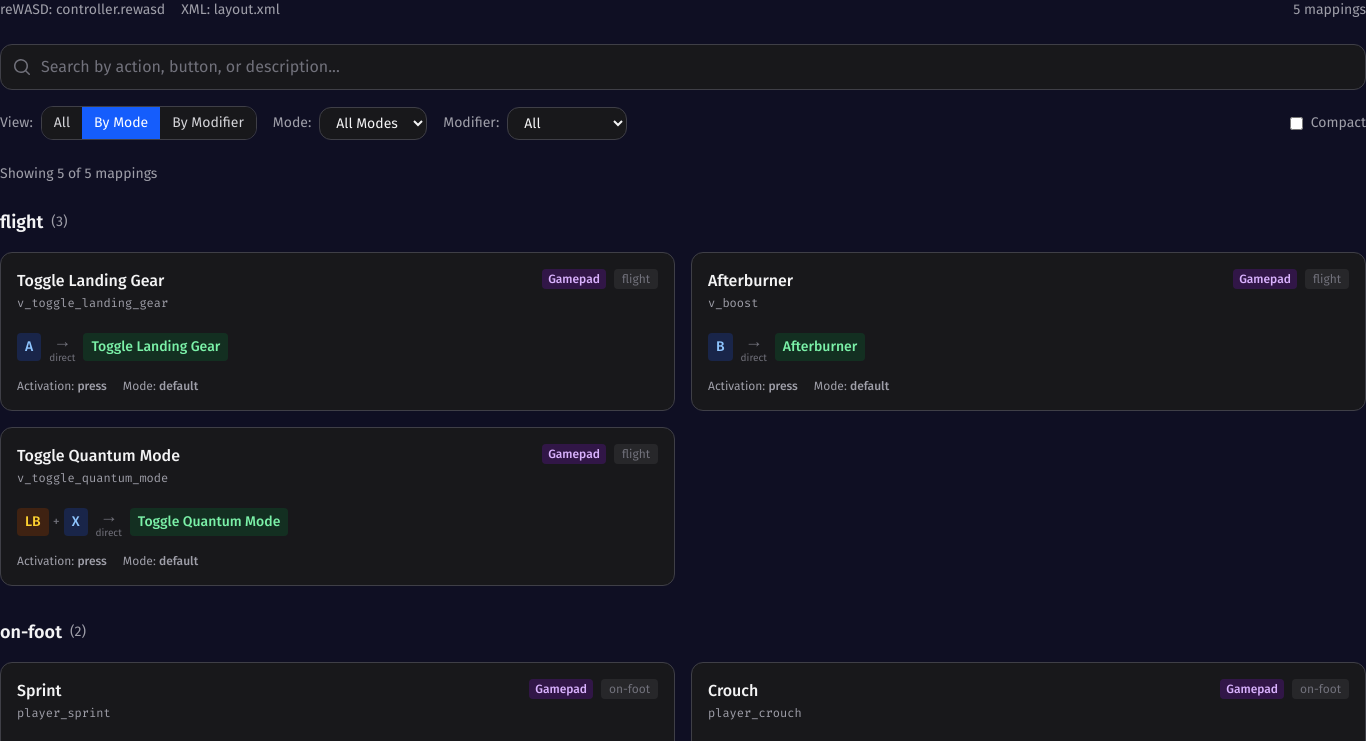
Test: MappingBrowser › view mode › switches to by-modifier view when clicked
Click the button "By Modifier" at [208, 123], box [160,107,256,139]
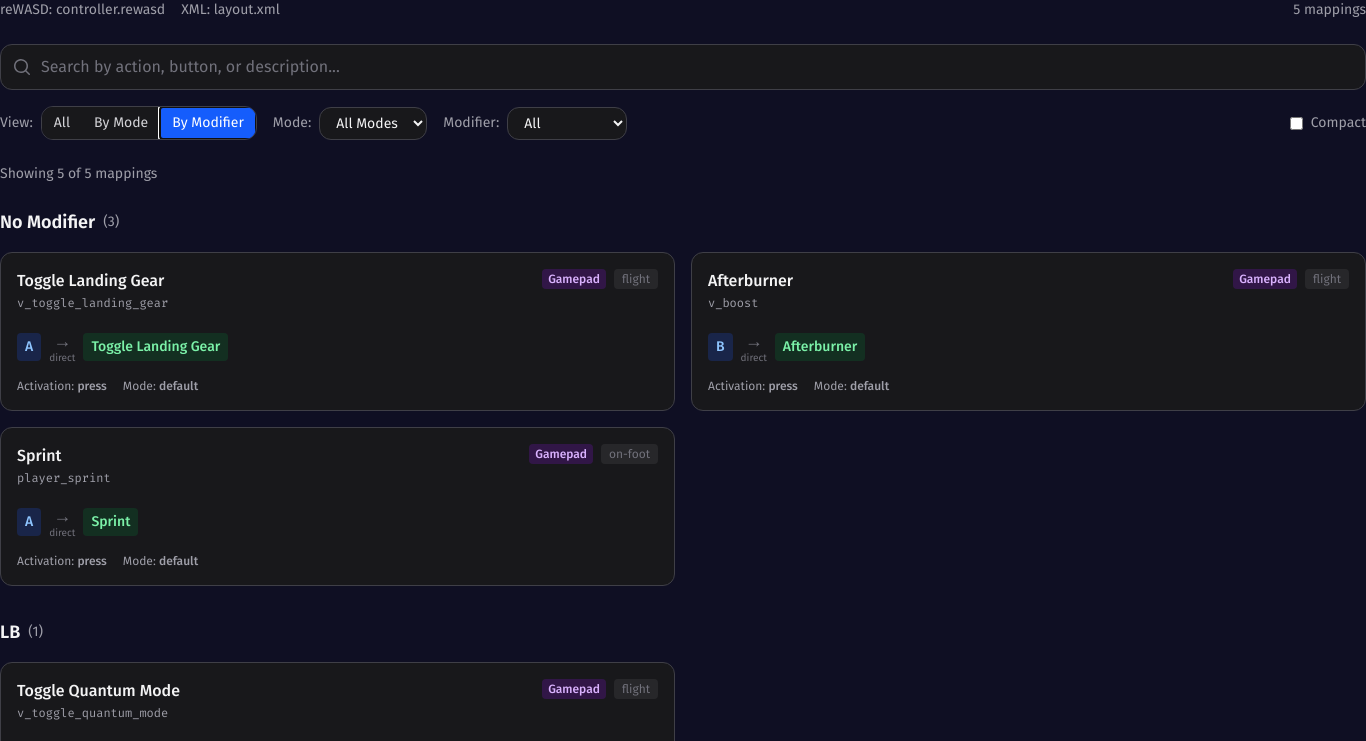
Result: the heading "No Modifier (3)" is shown at [0,211,119,233]
